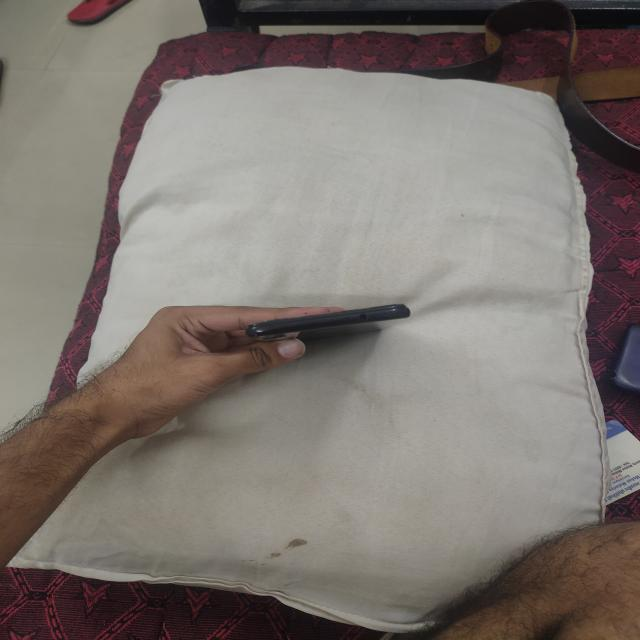Phone: (238, 302, 418, 342)
